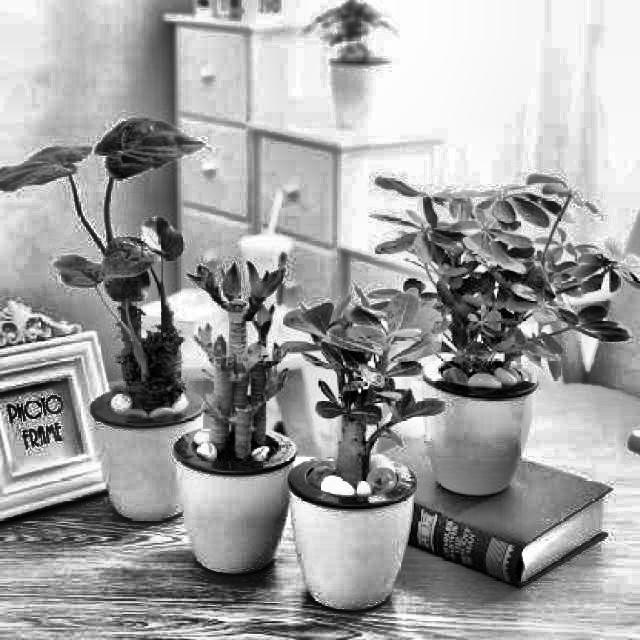plants: (286, 302, 434, 613), (78, 131, 194, 517), (403, 188, 542, 497), (184, 274, 276, 574)
